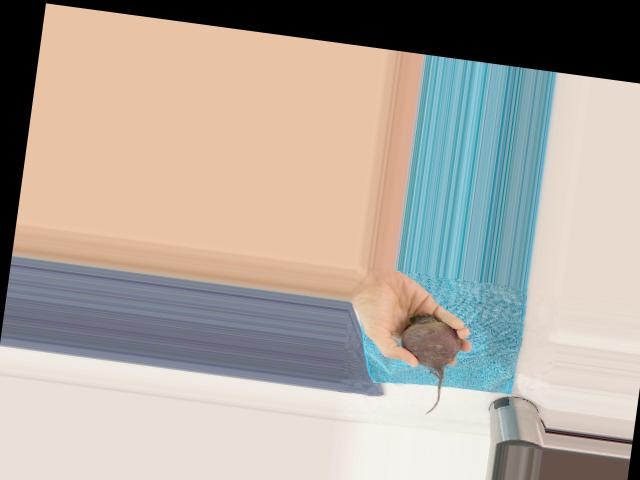beet: (392, 310, 465, 417)
